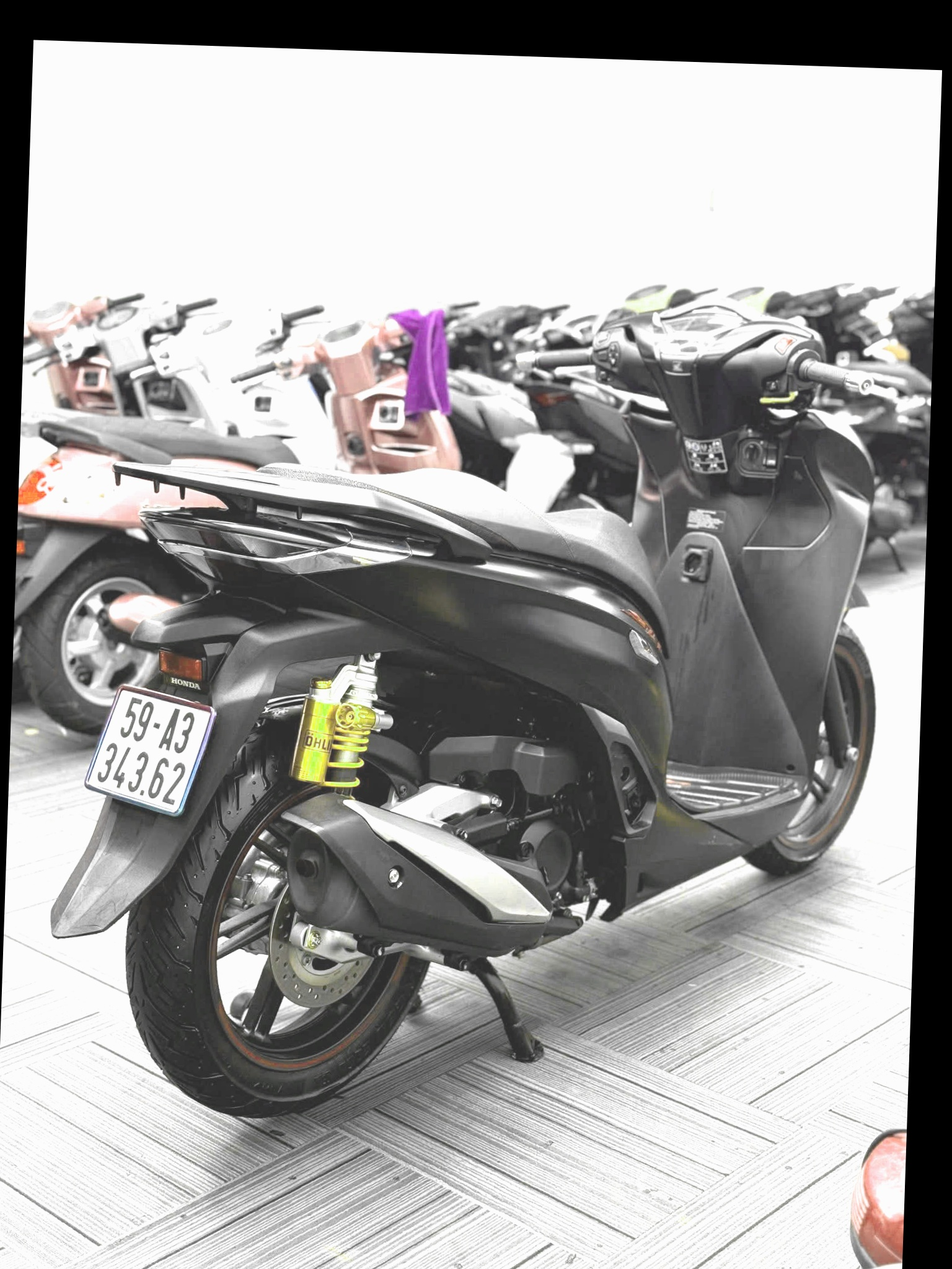Bien-so: (69, 611, 227, 761)
